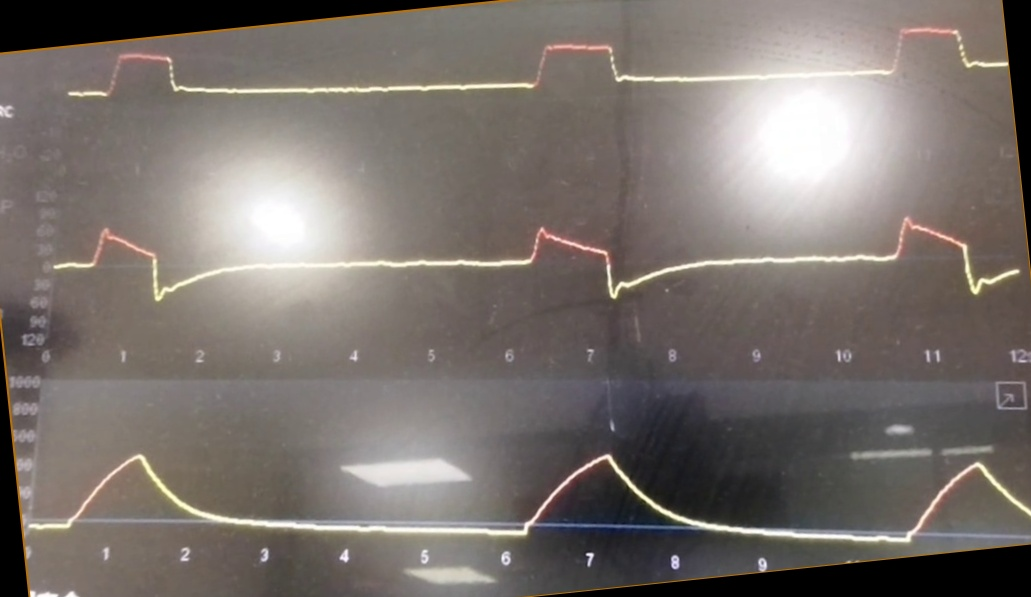Premature_cycling Flow: (58, 191, 1021, 325)
Premature_cycling Volume: (31, 438, 1031, 543)
